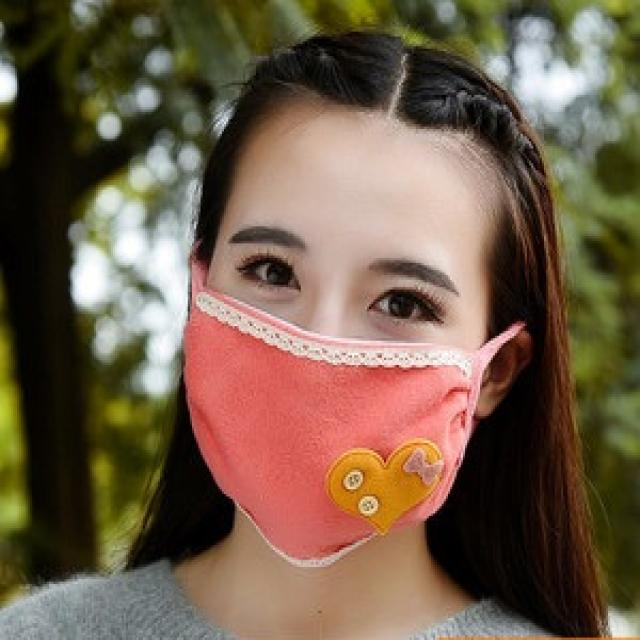mask: (183, 110, 478, 567)
